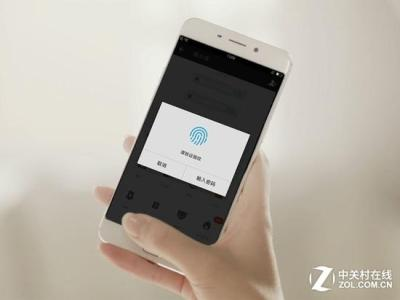phone: (112, 23, 292, 252)
